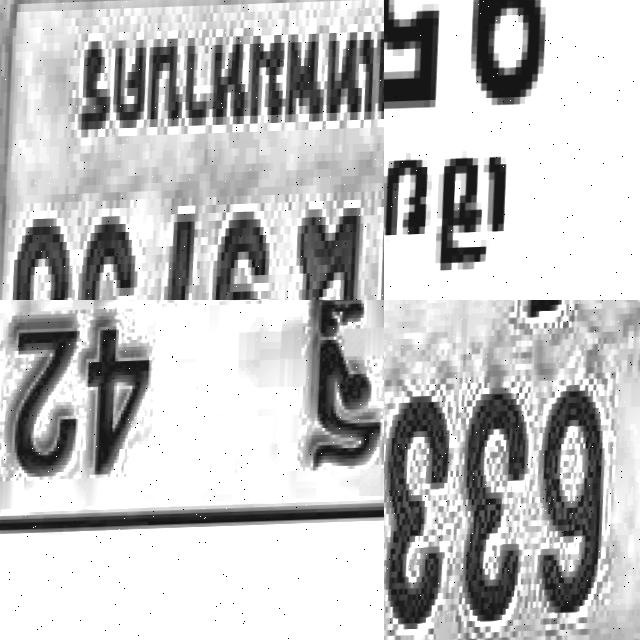license-plate: (0, 0, 384, 300), (0, 300, 384, 551), (384, 300, 640, 640), (384, 0, 640, 300)
